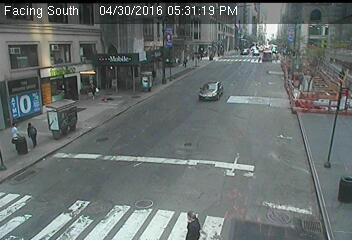neg: (244, 159, 269, 192), (139, 117, 163, 149), (63, 100, 84, 129), (50, 32, 71, 61), (70, 159, 91, 188), (256, 93, 277, 121), (271, 39, 292, 67), (177, 122, 198, 149), (115, 183, 135, 210), (208, 75, 226, 99), (301, 80, 318, 103), (108, 97, 125, 120)
pos: (182, 206, 205, 237), (23, 120, 44, 149), (5, 119, 24, 144)
